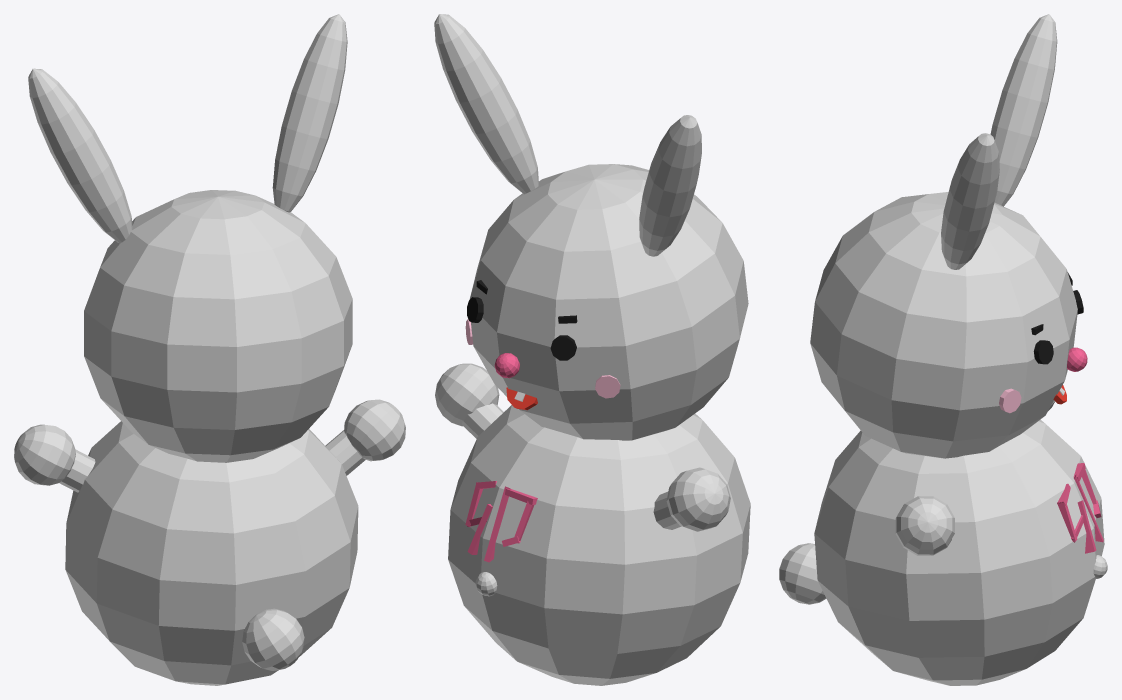
File: Rabbit.glb
The picture shows the model from 3 angles, left to right: view 1: azimuth 30°, elevation 25°; view 2: azimuth 150°, elevation 25°; view 3: azimuth 270°, elevation 25°; orthographic projection. The views are drawn at different scales.
Parts seen in each view (by area): view 1: group2127734581, group2065478825, group390267416, group1798745168, group170722107, group569847859, group1709833689, group624768528, group1702239461; view 2: group2065478825, group2127734581, group390267416, group1798745168, group569847859, group1709833689, group624768528, group1702239461, group1593589497, group1176069074, group1462030203; view 3: group2065478825, group2127734581, group1798745168, group390267416, group1709833689, group170722107.
Part boxes in pixels (box(x1,y1,x2,y2)): group2127734581: box(84, 190, 352, 462); group2065478825: box(65, 421, 358, 685); group390267416: box(272, 14, 347, 212); group1798745168: box(28, 68, 132, 243); group170722107: box(242, 608, 304, 670); group569847859: box(14, 424, 75, 485); group1709833689: box(344, 399, 405, 461); group624768528: box(325, 430, 365, 475); group1702239461: box(59, 449, 95, 492); group2065478825: box(448, 405, 750, 685); group2127734581: box(469, 164, 748, 440); group390267416: box(434, 14, 538, 194); group1798745168: box(639, 115, 701, 256); group569847859: box(666, 467, 730, 531); group1709833689: box(435, 363, 499, 426); group624768528: box(462, 403, 503, 438); group1702239461: box(653, 491, 681, 529); group1593589497: box(484, 486, 510, 562); group1176069074: box(550, 335, 576, 360); group1462030203: box(494, 353, 519, 378); group2065478825: box(814, 419, 1104, 685); group2127734581: box(810, 192, 1077, 458); group1798745168: box(990, 14, 1057, 206); group390267416: box(941, 133, 999, 269); group1709833689: box(895, 496, 954, 555); group170722107: box(779, 543, 826, 604).
Size of the model in its own units: 0.3056 by 0.5416 by 0.2664.
